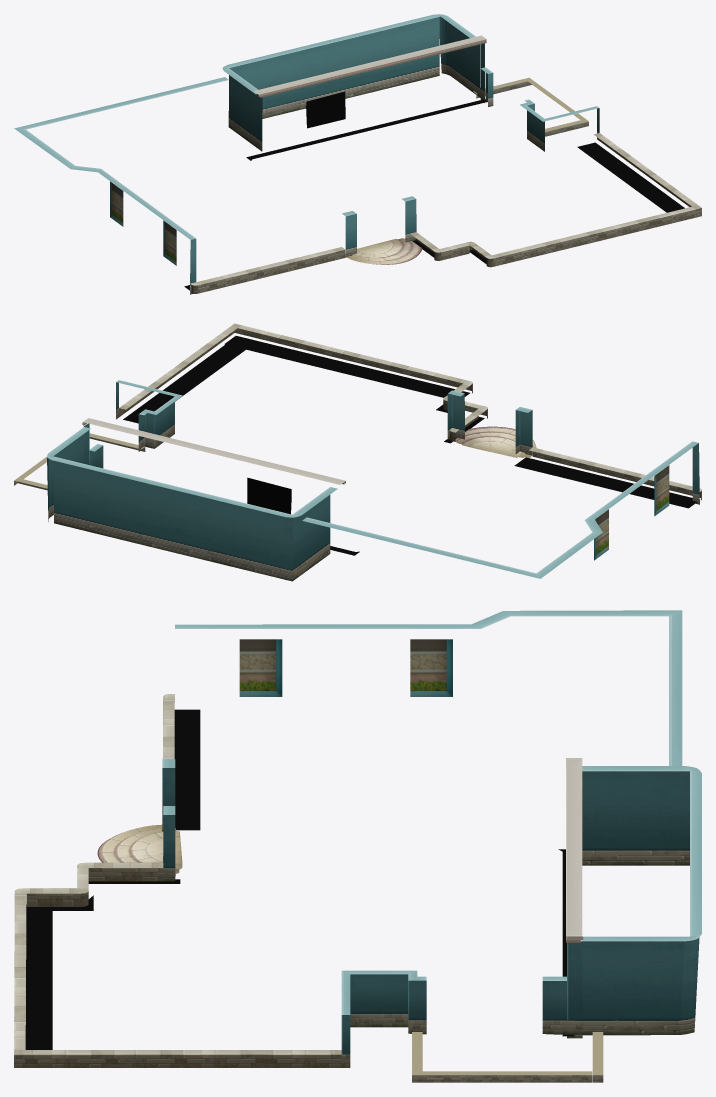
The model's file is K1_waiguang00.FBX.
3 renders of one model, top to bottom at view 1: azimuth 30°, elevation 25°; view 2: azimuth 150°, elevation 25°; view 3: azimuth 270°, elevation 25°, orthographic. The views are drawn at different scales.
Parts seen in each view (by area): view 1: waikuang05, waikuang_yy, shijie, waikuang_Chuang, waikuang007, waikuang006; view 2: waikuang05, waikuang_yy, shijie, waikuang_Chuang, waikuang007, waikuang006; view 3: waikuang05, waikuang_yy, waikuang_Chuang, shijie, waikuang006.
Part boxes in pixels (x1,y1,x2,y2): waikuang05: (14, 14, 701, 294); waikuang_yy: (184, 91, 684, 290); shijie: (345, 238, 422, 264); waikuang_Chuang: (110, 181, 176, 265); waikuang007: (342, 211, 356, 257); waikuang006: (402, 196, 416, 242); waikuang05: (14, 323, 701, 581); waikuang_yy: (123, 336, 696, 555); shijie: (454, 426, 536, 457); waikuang_Chuang: (594, 465, 669, 560); waikuang007: (515, 407, 532, 456); waikuang006: (447, 390, 464, 439); waikuang05: (14, 610, 701, 1082); waikuang_yy: (25, 709, 574, 1049); waikuang_Chuang: (239, 639, 452, 696); shijie: (97, 824, 182, 876); waikuang006: (163, 806, 175, 881).
Bounding box in the file's own units: 26.79 × 3.39 × 20.31.
